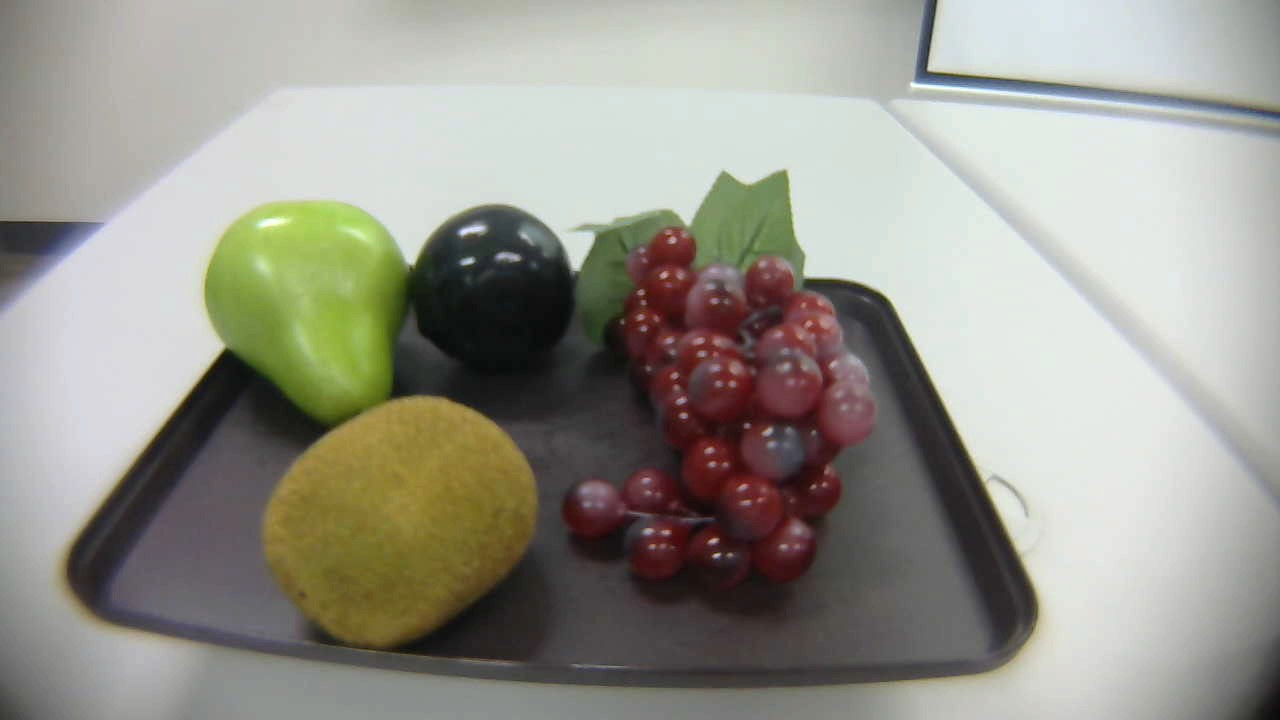grape: (547, 164, 892, 601)
green pear: (192, 193, 418, 438)
kiwi fruit: (262, 386, 553, 654)
mangosteen: (399, 197, 589, 375)
